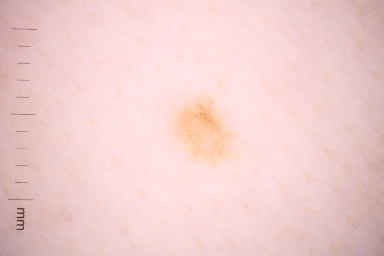nevus: (172, 107, 231, 160)
